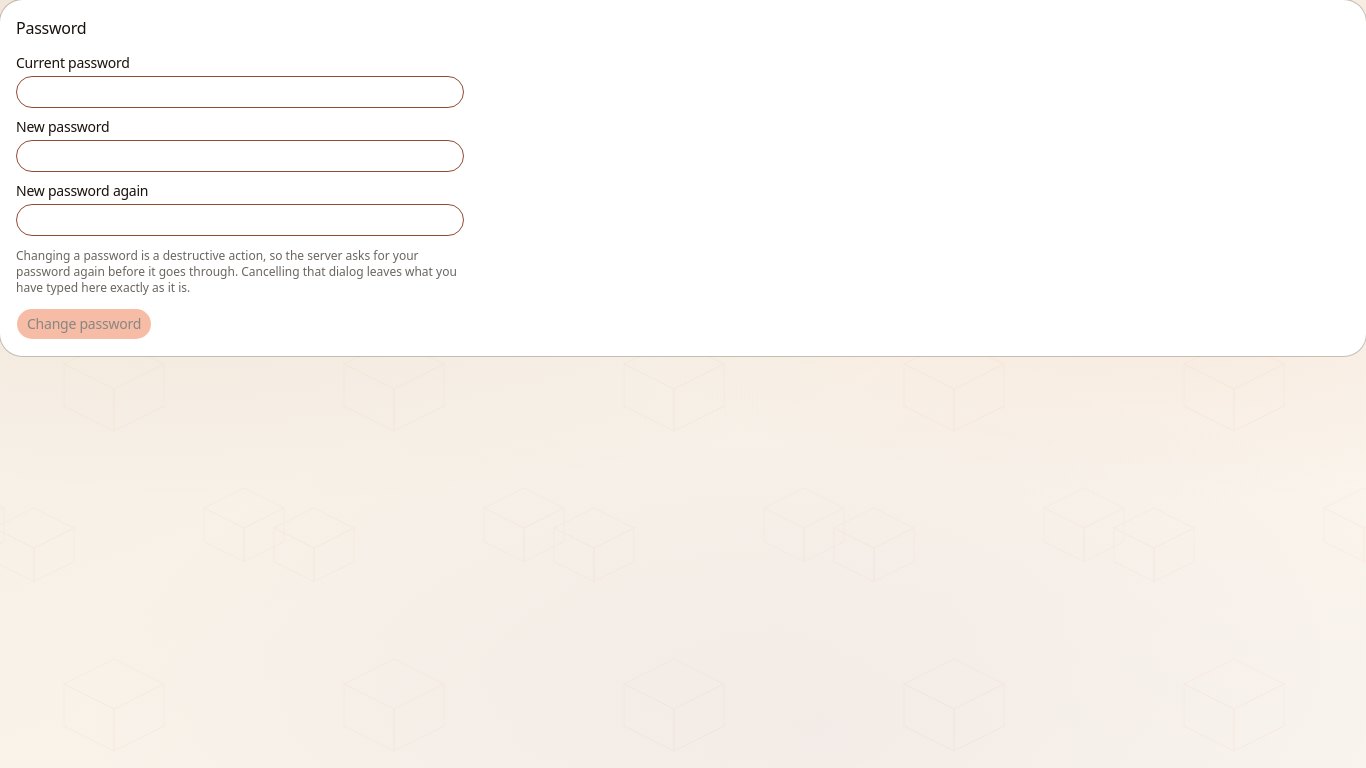
Scenario: the password form › refuses two new passwords that do not match, without asking the server
Type "old" into the password field labelled "Current password" at (240, 92), box [16,76,464,108]
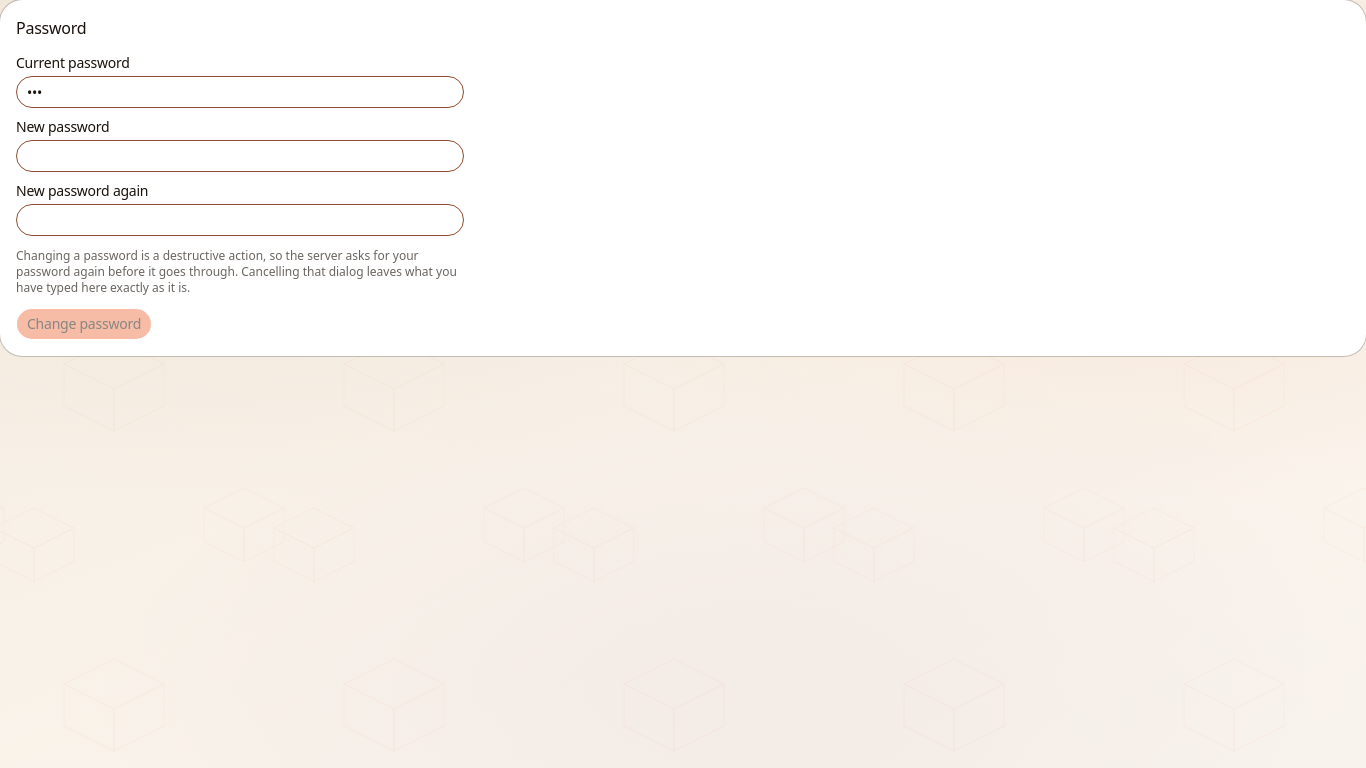
Type "first" into the password field labelled "New password" at (240, 156), box [16,140,464,172]
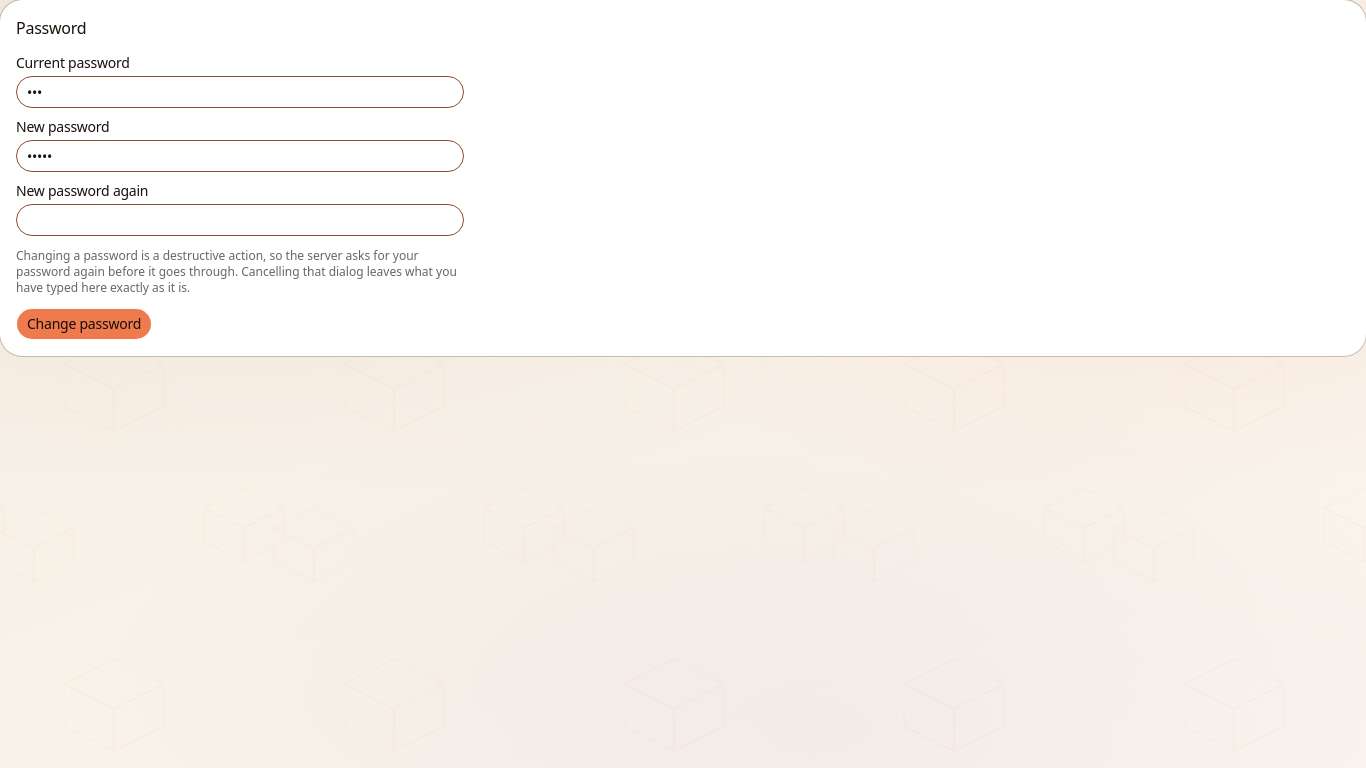
Type "second" into the password field labelled "New password again" at (240, 220), box [16,204,464,236]
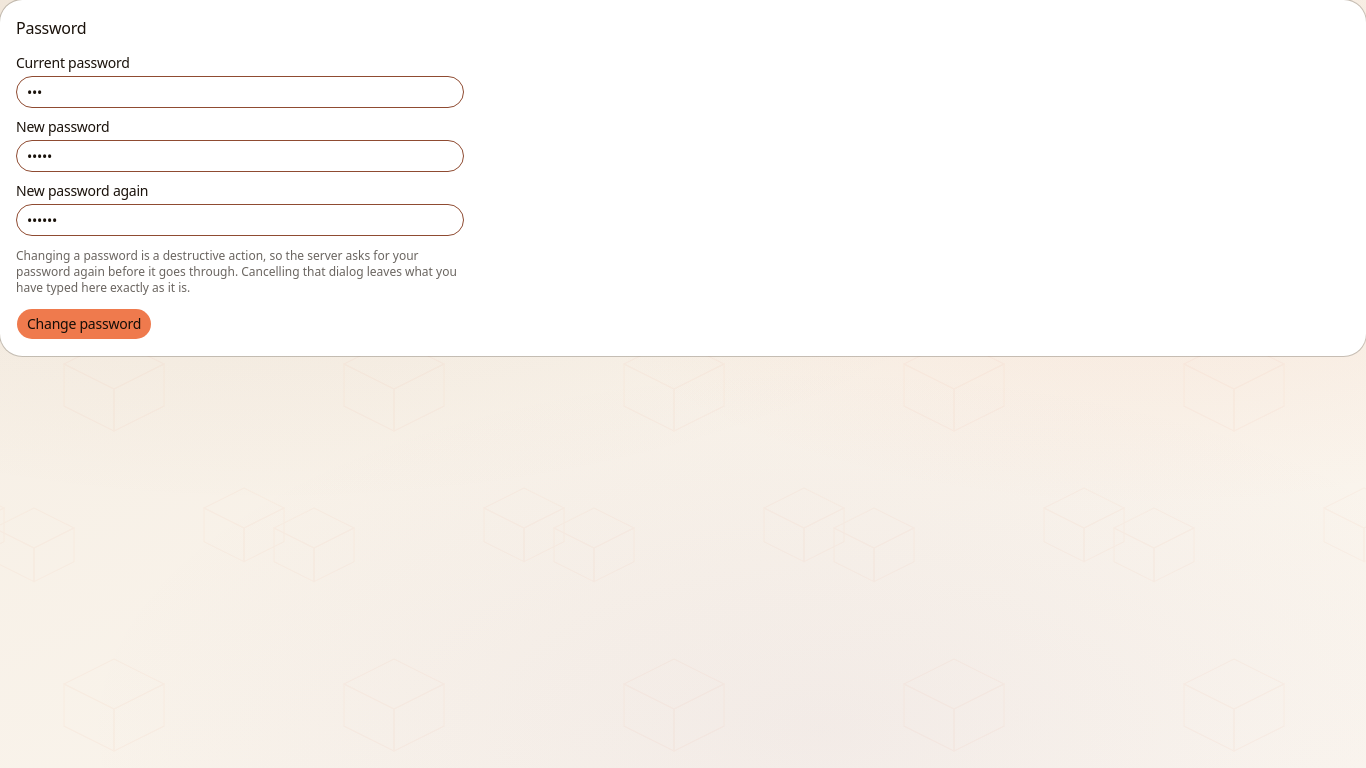
Click the button "Change password" at (84, 324), box [16,308,152,340]
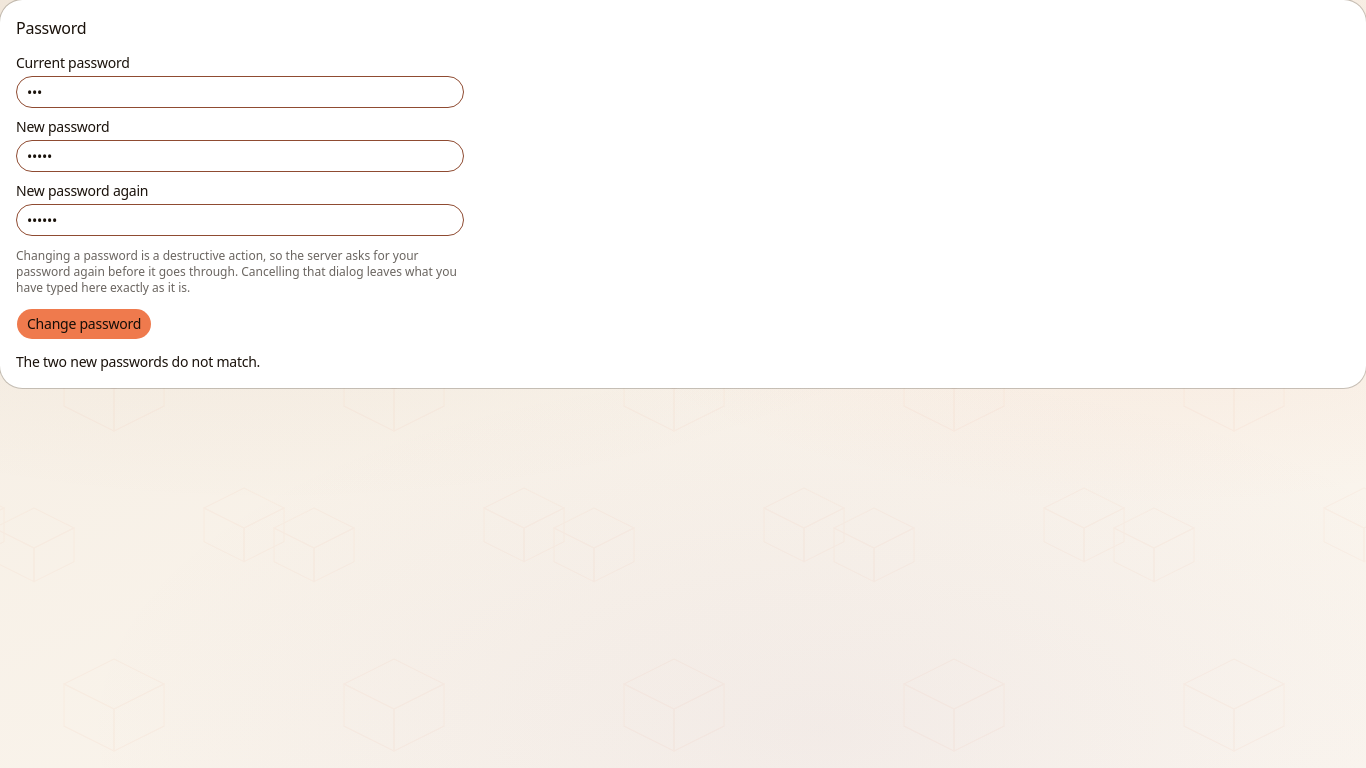
expect the text "The two new passwords do not match." is shown: met, box [16,352,260,371]
